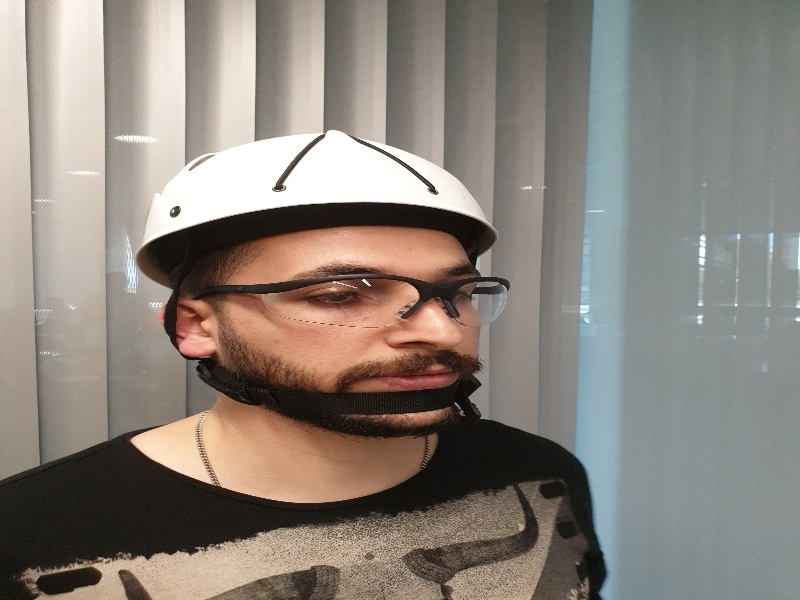baret: (136, 130, 497, 284)
gozluk: (196, 262, 516, 336)
